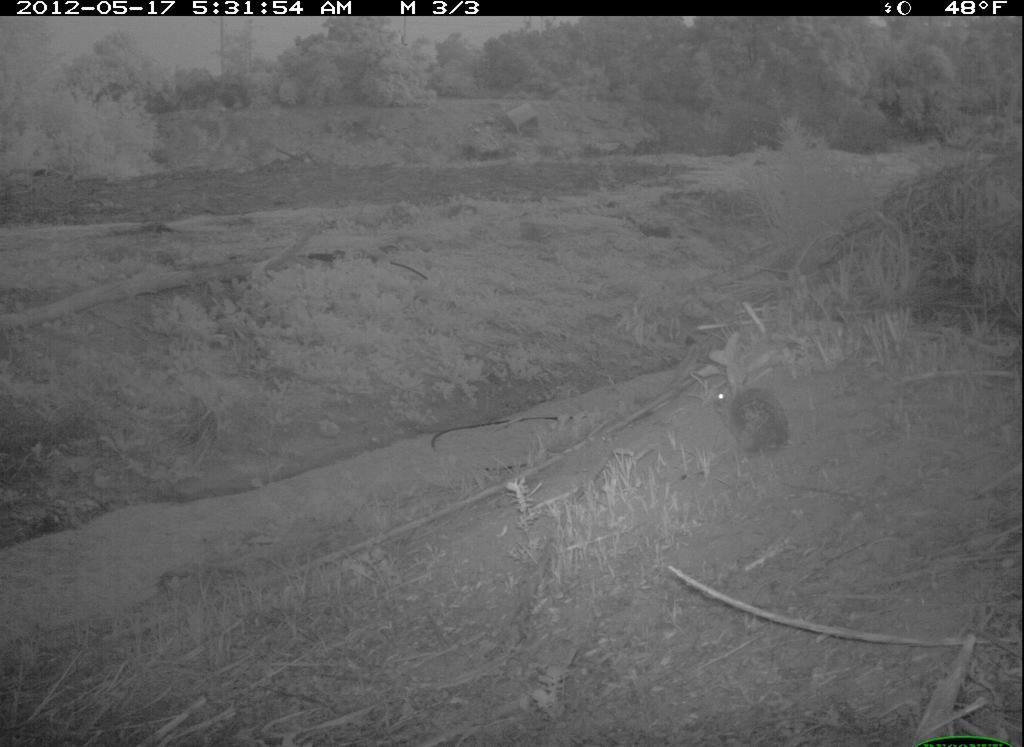rabbit: (703, 358, 794, 463)
